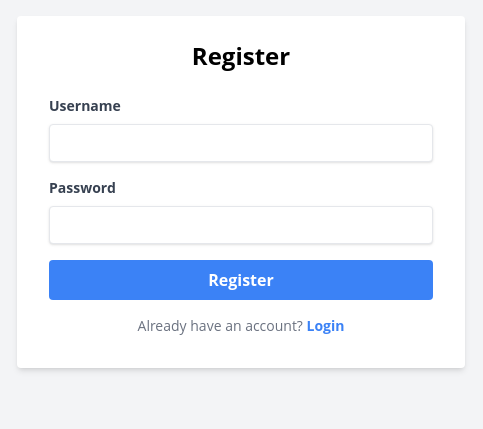
Test: RegisterPage › shows validation errors for short username and password
Type "a" into the field labelled "Username" at coordinates (241, 143), box [49, 124, 433, 162]
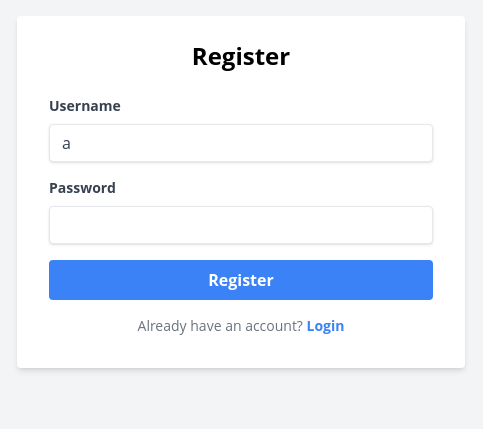
Type "b" into the password field labelled "Password" at coordinates (241, 225), box [49, 206, 433, 244]
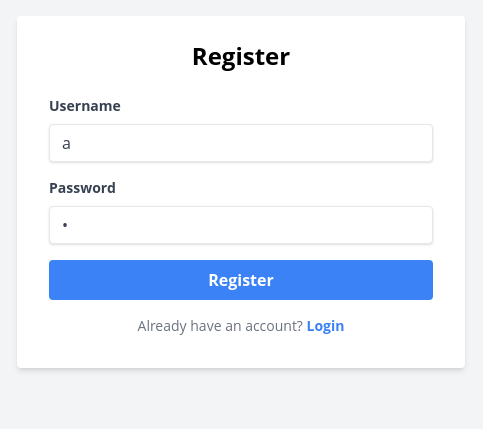
Click the button "Register" at coordinates (241, 280), box [49, 260, 433, 300]
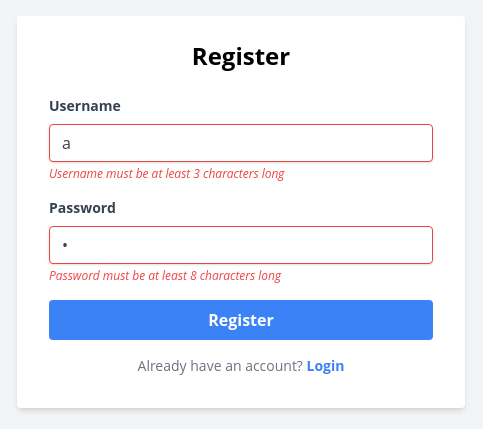
Check: the text "Username must be at least 3 characters long" is shown, box [49, 165, 284, 182]
Check: the text "Password must be at least 8 characters long" is shown, box [49, 267, 281, 284]
